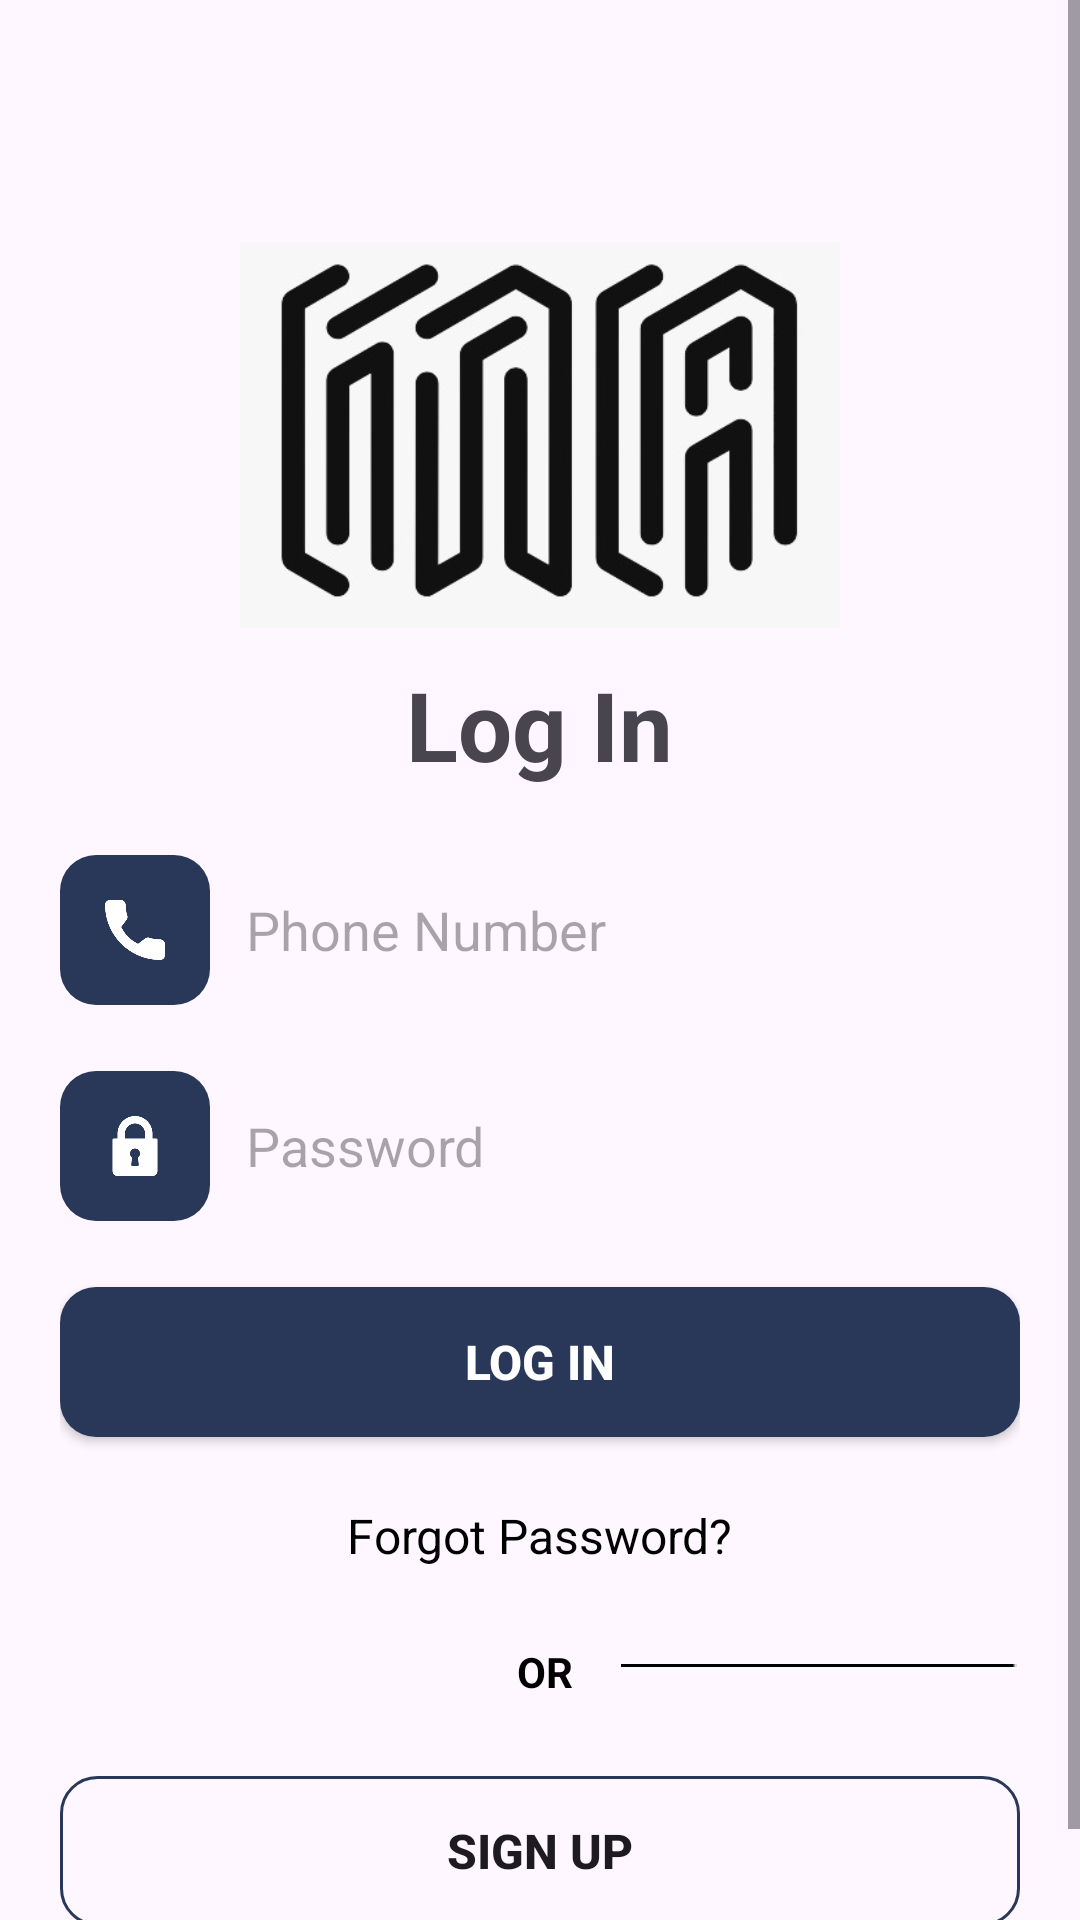

Named icons in this screenshot (1080px x 1920px) and their centers, [x,y]:
call: [135,930]
lock: [135,1146]
